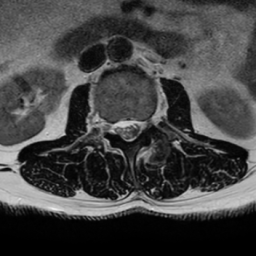CCS_normal: (123, 111, 132, 148)
LFS_normal: (141, 110, 153, 138)
LLS_normal: (132, 110, 141, 144)
RFS_normal: (105, 113, 114, 141)
RLS_normal: (114, 111, 123, 142)
